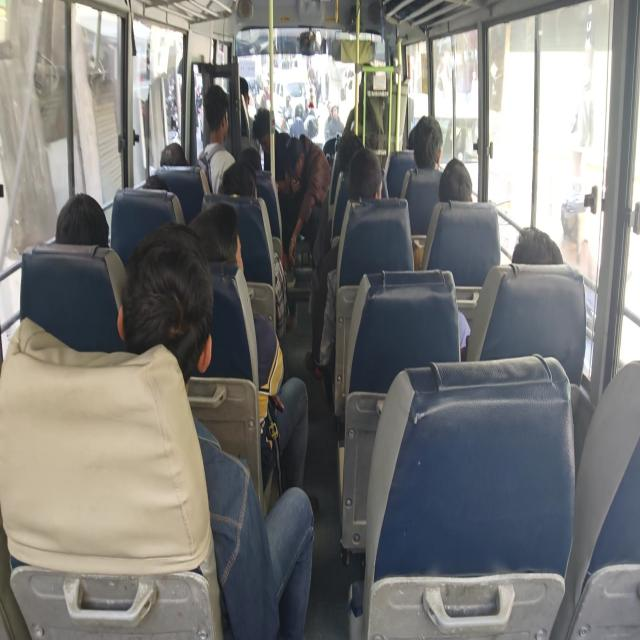person: (109, 216, 219, 384), (192, 199, 250, 290), (46, 188, 114, 254), (512, 220, 564, 274), (197, 77, 234, 147), (433, 153, 481, 205), (407, 109, 447, 170), (348, 141, 380, 204), (220, 156, 260, 202), (251, 103, 277, 152), (283, 130, 305, 184), (157, 136, 192, 168), (336, 130, 359, 174), (138, 168, 170, 198), (235, 70, 255, 112), (243, 140, 263, 173), (359, 61, 378, 88), (404, 124, 422, 150)
